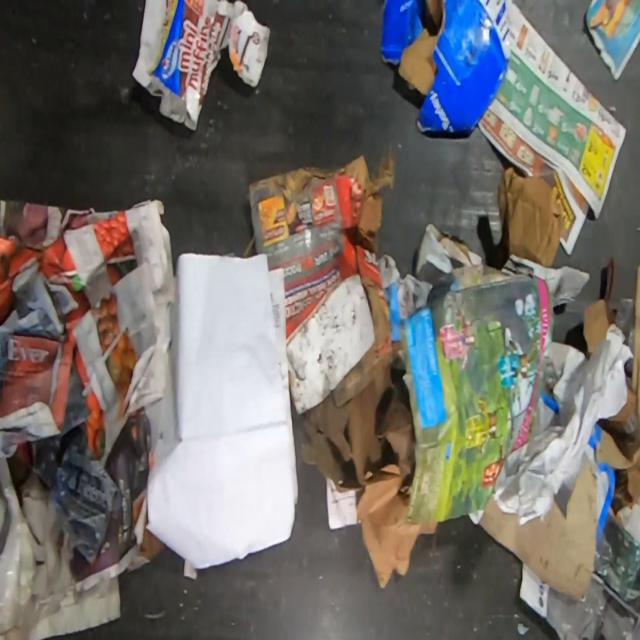cardboard: (248, 152, 396, 416), (478, 422, 640, 600), (379, 0, 519, 135), (132, 0, 272, 133), (413, 223, 591, 309), (498, 166, 566, 269), (609, 264, 640, 430), (582, 298, 611, 356), (531, 386, 559, 440)
